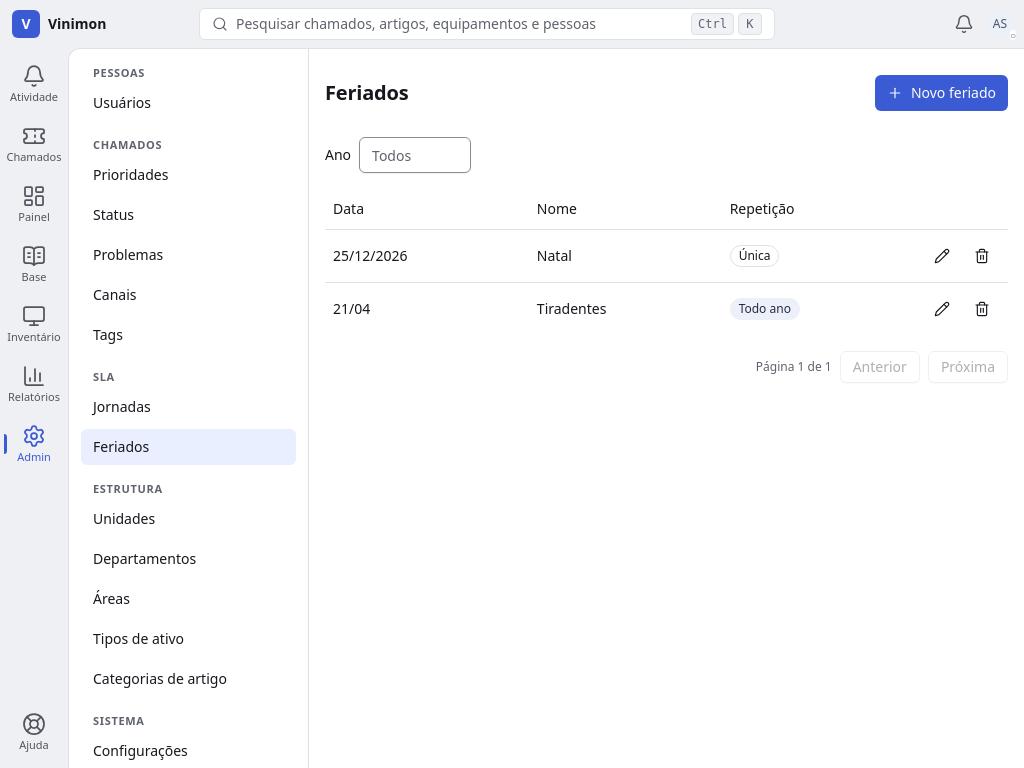
/admin/feriados › (b) excluir confirma e faz DELETE /feriados/:id
What coordinates should you click on to do the following:
click the button named "Excluir Natal"
I would click on:
 (982, 256)
Its box is [964,238,1000,274].
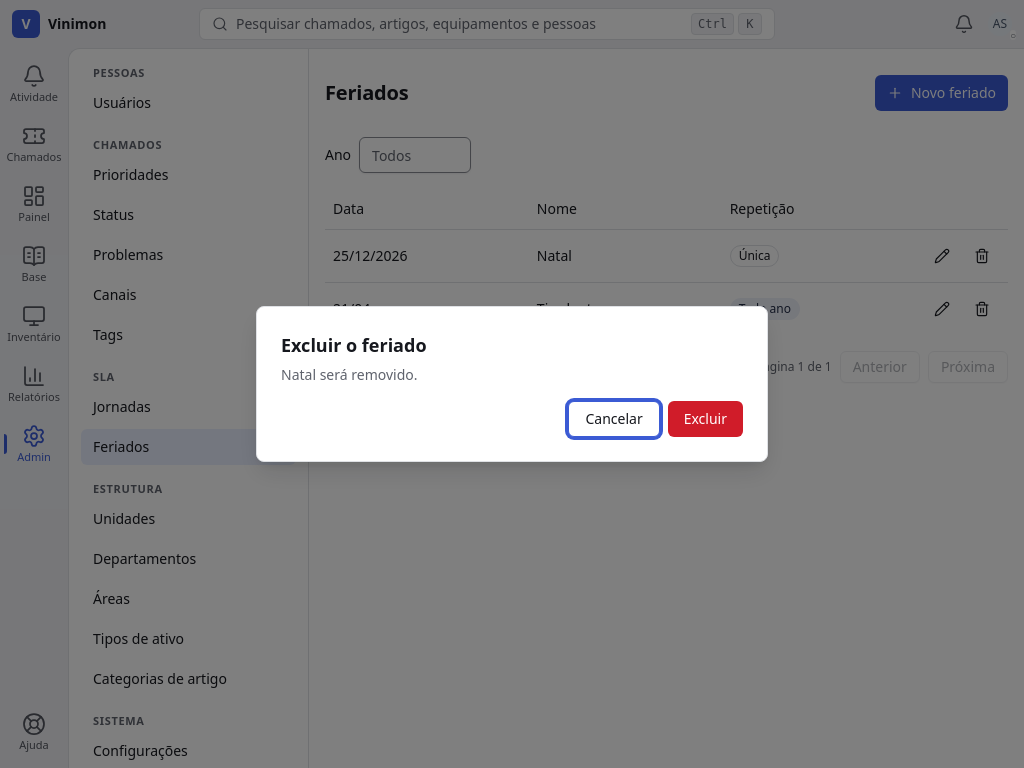
What coordinates should you click on to do the following:
click the button "Excluir"
I would click on:
 (705, 419)
Its box is [668,401,743,437].
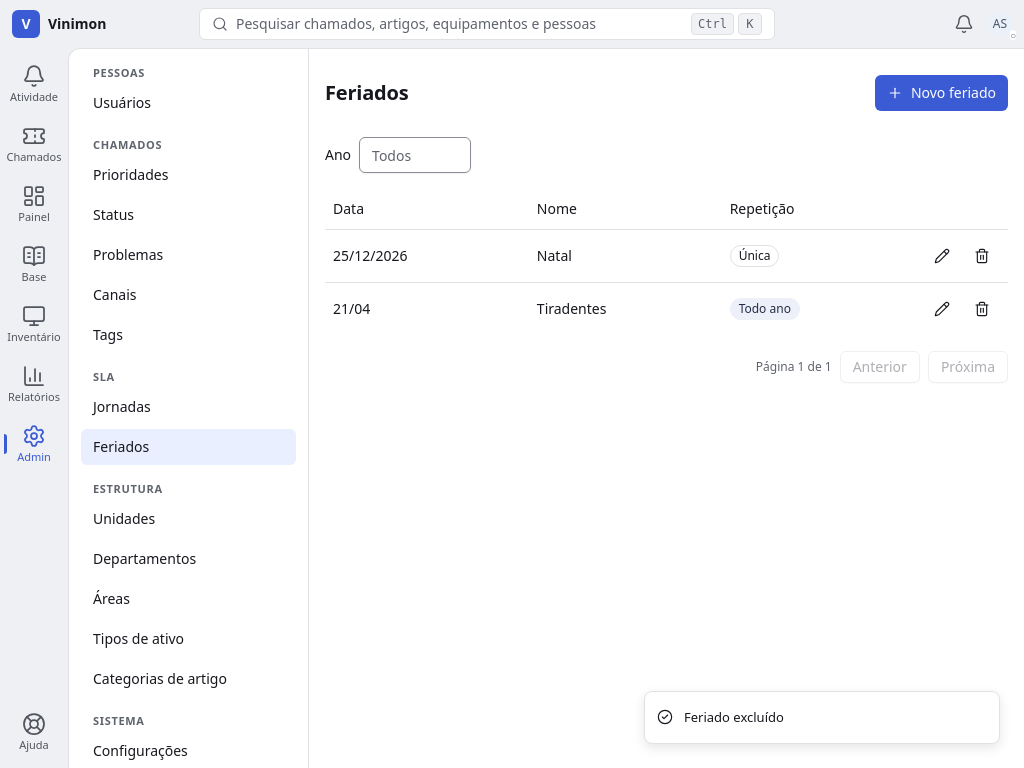
Check: the text "Feriado excluído" is shown, box [684,708,784,727]
